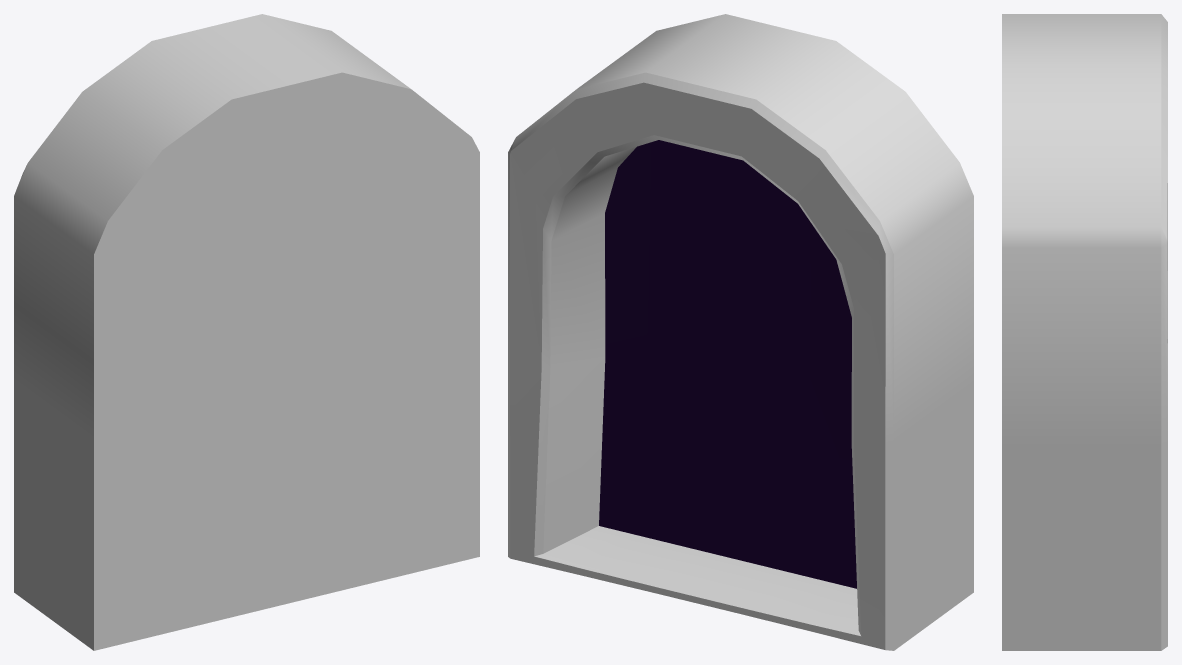
Rendered from SM_EnterExit.fbx.
3 renders of one model, left to right at view 1: azimuth 30°, elevation 25°; view 2: azimuth 150°, elevation 25°; view 3: azimuth 270°, elevation 25°, orthographic.
Visible parts, largest first — view 1: Cube.001; view 2: Cube.001; view 3: Cube.001.
Part boxes in pixels (left/top/right/bottom): Cube.001: left=14, top=14, right=479, bottom=650; Cube.001: left=508, top=14, right=973, bottom=650; Cube.001: left=1002, top=14, right=1167, bottom=650.
Size of the model in its own units: 100 by 128 by 37.34.
